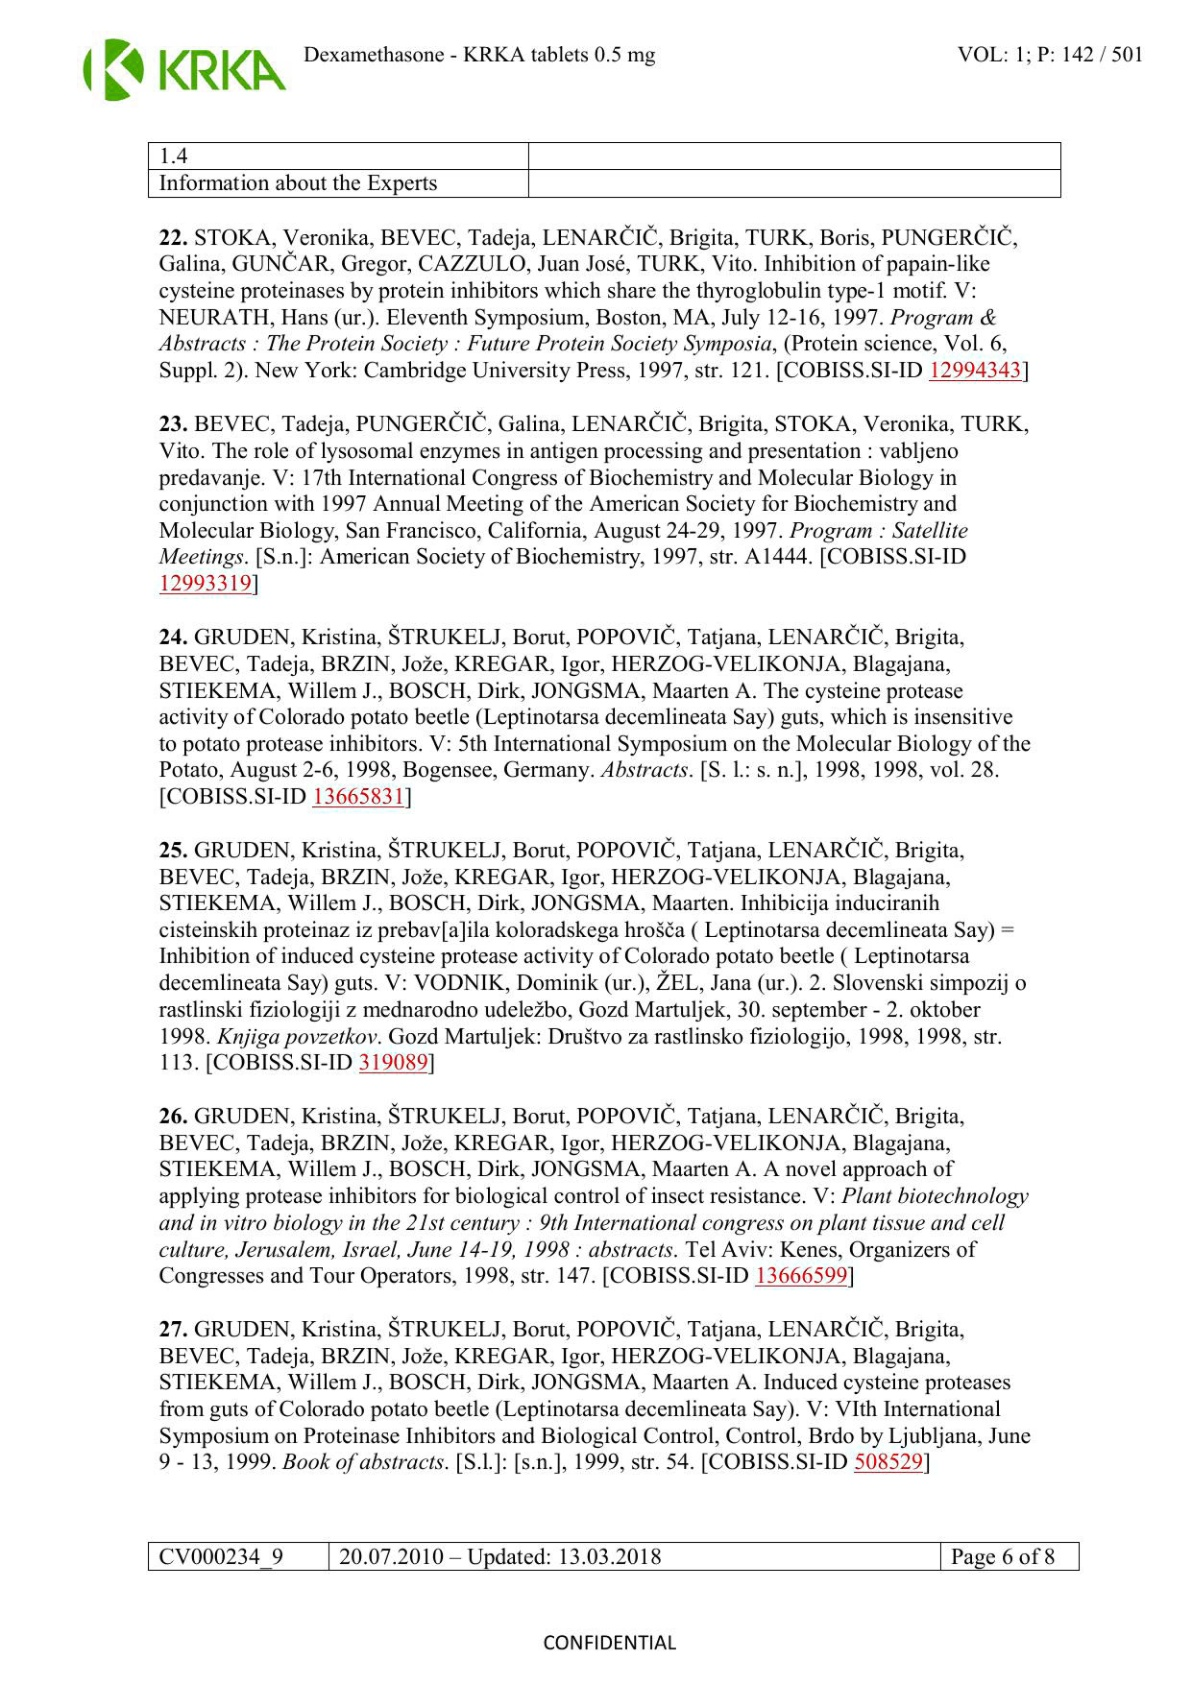full_lined: (147, 141, 1062, 200), (147, 1540, 1081, 1572)
